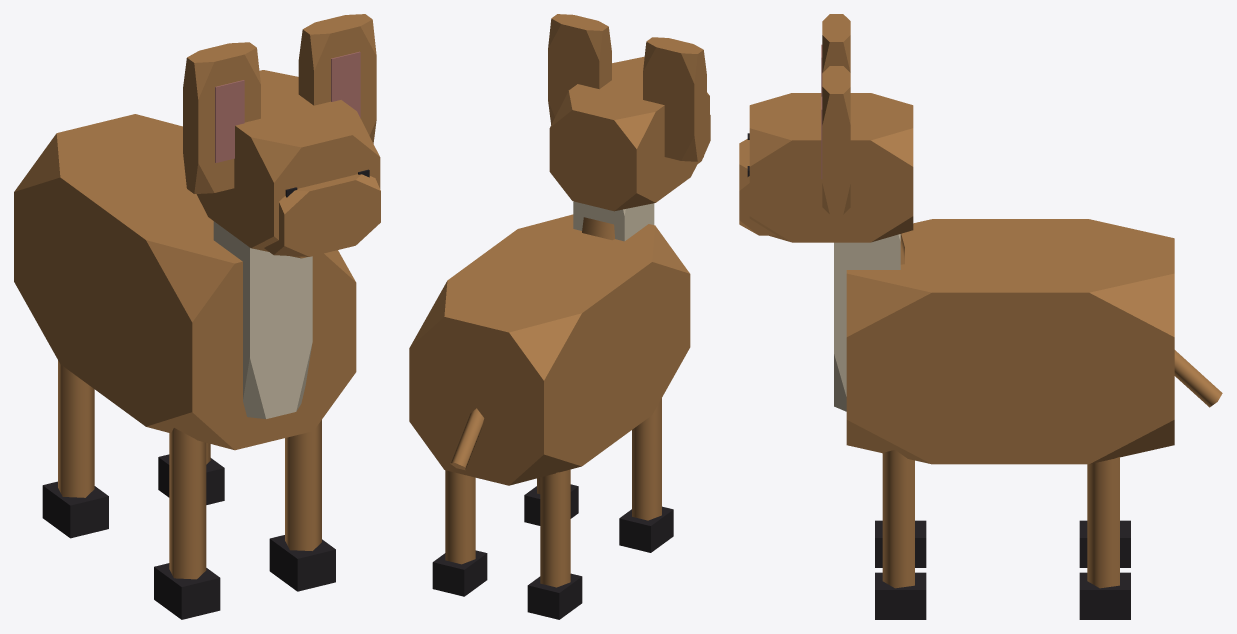
File: original-vicuna.glb
3 renders of one model, left to right at view 1: azimuth 30°, elevation 25°; view 2: azimuth 150°, elevation 25°; view 3: azimuth 270°, elevation 25°, orthographic. The views are drawn at different scales.
Visible parts, largest first — view 1: vicuna; view 2: vicuna; view 3: vicuna.
Boxes of the visible parts, bbox=[...] form: vicuna: bbox=[14, 14, 380, 619]; vicuna: bbox=[409, 14, 710, 619]; vicuna: bbox=[739, 14, 1222, 619].
Size of the model in its own units: 0.74 by 2.29 by 1.89.
